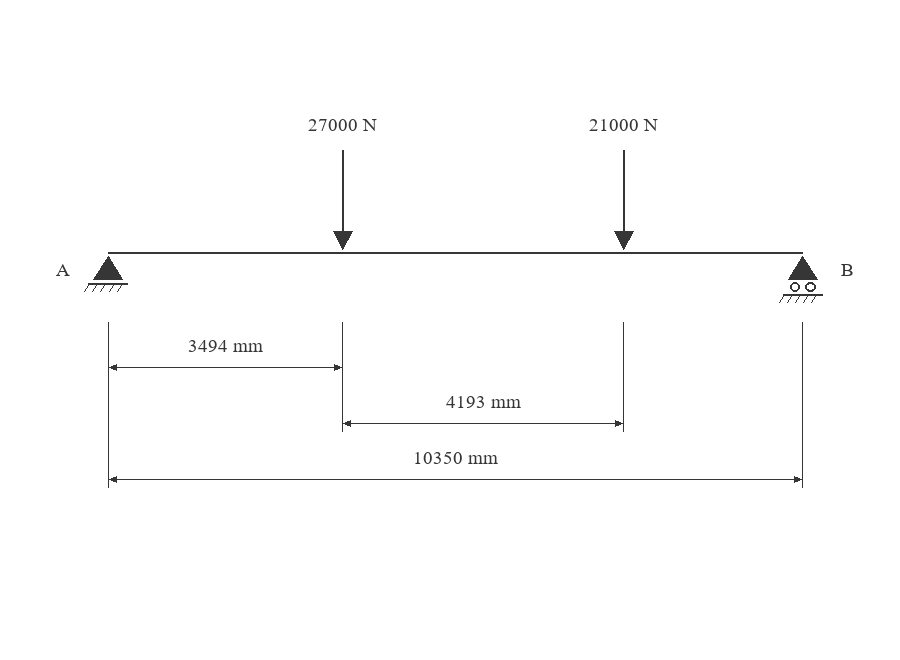pin_support: (84, 256, 128, 292)
point_load: (333, 150, 353, 250), (614, 150, 634, 250)
roller_support: (779, 256, 823, 303)
